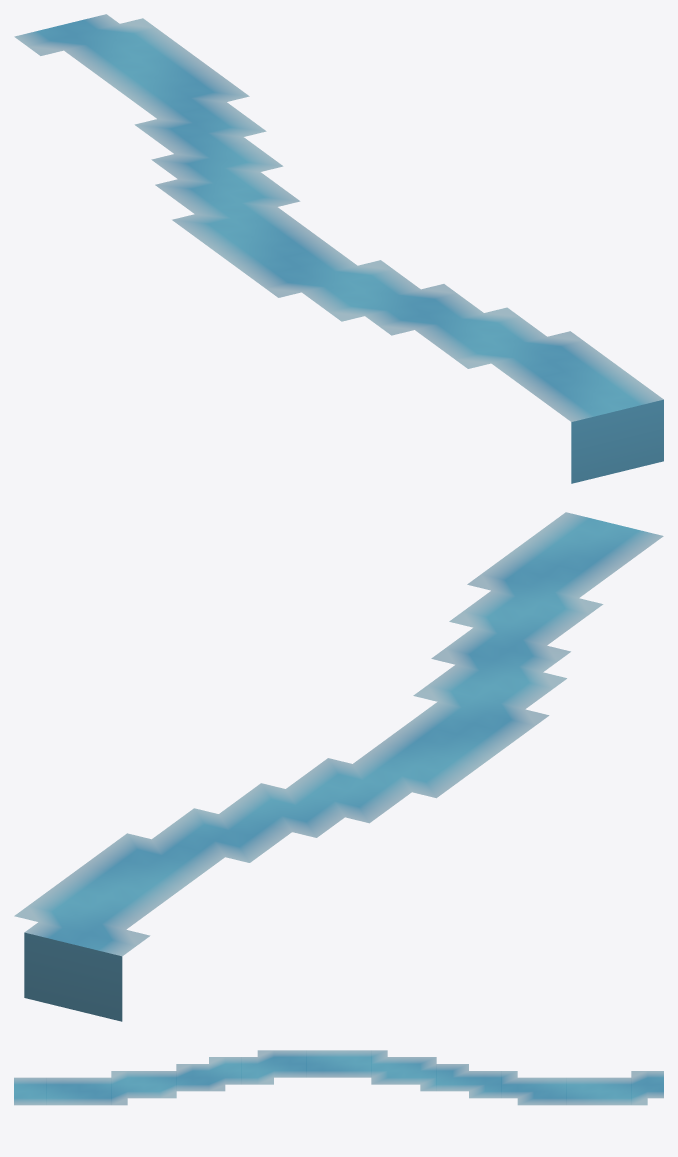
The model's file is water.glb.
The picture shows the model from 3 angles, top to bottom: view 1: azimuth 30°, elevation 25°; view 2: azimuth 150°, elevation 25°; view 3: azimuth 270°, elevation 25°; orthographic projection. The views are drawn at different scales.
Parts seen in each view (by area): view 1: ReferenceWater; view 2: ReferenceWater; view 3: ReferenceWater.
Boxes of the visible parts, x1,y1,x2,y2 form: ReferenceWater: (14, 14, 663, 483); ReferenceWater: (14, 512, 663, 1021); ReferenceWater: (14, 1050, 663, 1105).
Size of the model in its own units: 8 by 2.55 by 40.
